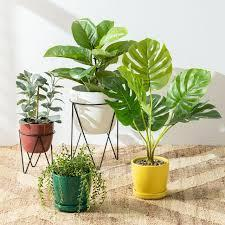Indoor Plant: (105, 39, 220, 200), (47, 19, 136, 134), (45, 146, 106, 212), (15, 65, 57, 151)
